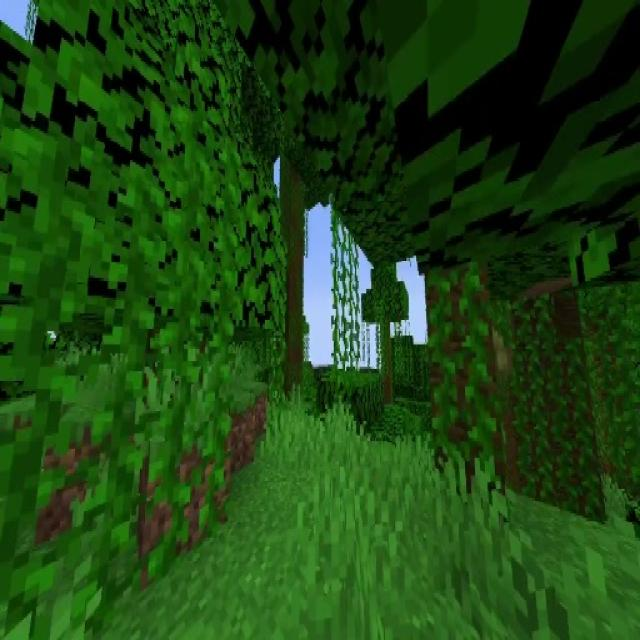jungle: (362, 264, 411, 399)
jungle_log: (498, 289, 596, 504), (282, 153, 304, 396), (380, 324, 392, 401)
